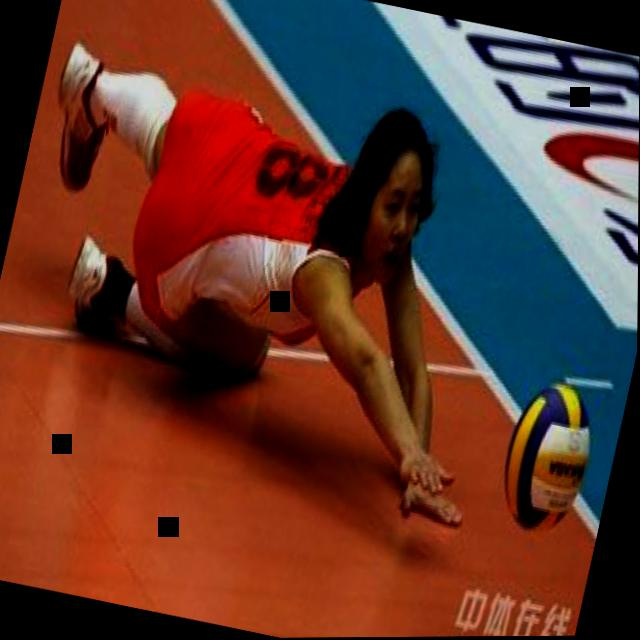Fall-Detected: (0, 0, 532, 542)
